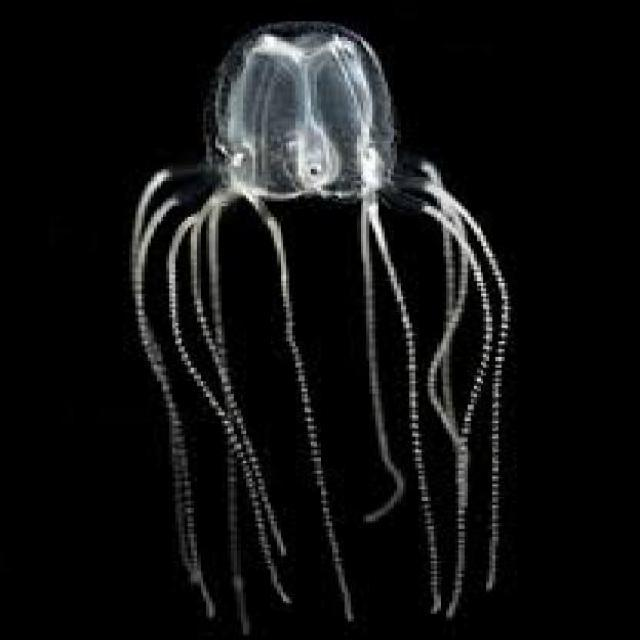Jellyfish: (123, 15, 504, 611)
